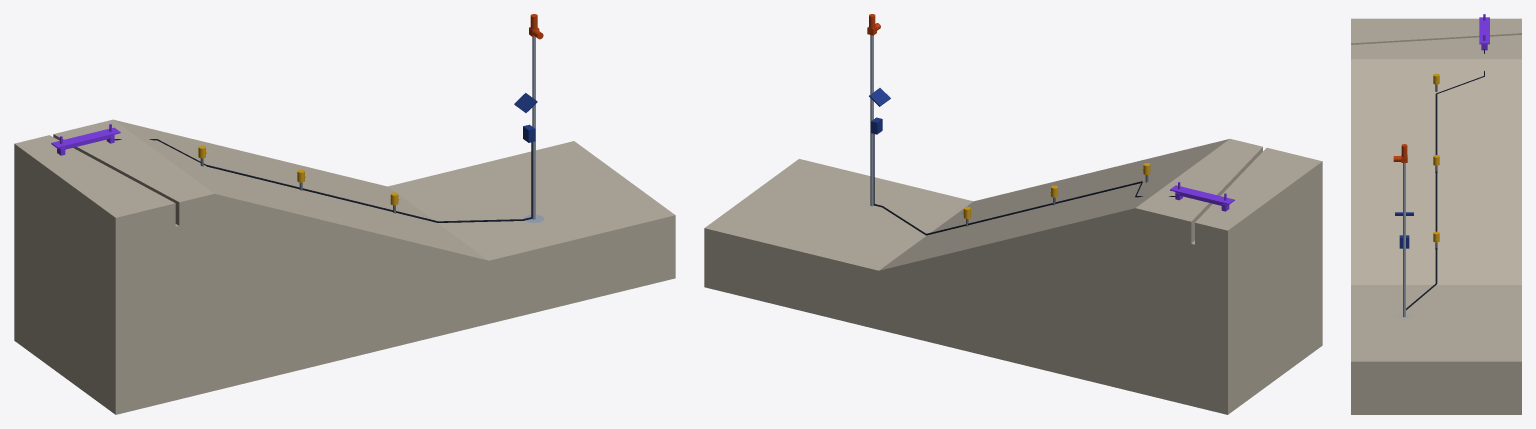
The picture shows the model from 3 angles, left to right: view 1: azimuth 30°, elevation 25°; view 2: azimuth 150°, elevation 25°; view 3: azimuth 270°, elevation 25°; orthographic projection. The views are drawn at different scales.
Parts seen in each view (by area): view 1: Ground: 25 degree slope with tension crack (site), Sensor bus cable in conduit, Crack displacement gauge, Mast and footing; view 2: Ground: 25 degree slope with tension crack (site), Sensor bus cable in conduit, Crack displacement gauge, Mast and footing; view 3: Ground: 25 degree slope with tension crack (site), Sensor bus cable in conduit, Mast and footing, Crack displacement gauge, Stake heads with cable gland (3), Siren and beacon alert unit, FieldNode core with 6 W panel.
Part boxes in pixels (x1=…): Ground: 25 degree slope with tension crack (site): x1=14, y1=119, x2=675, y2=414; Sensor bus cable in conduit: x1=114, y1=139, x2=532, y2=222; Crack displacement gauge: x1=51, y1=124, x2=120, y2=155; Mast and footing: x1=524, y1=36, x2=544, y2=222; Ground: 25 degree slope with tension crack (site): x1=704, y1=138, x2=1322, y2=414; Sensor bus cable in conduit: x1=873, y1=134, x2=1175, y2=235; Crack displacement gauge: x1=1170, y1=182, x2=1234, y2=211; Mast and footing: x1=867, y1=35, x2=880, y2=209; Ground: 25 degree slope with tension crack (site): x1=1351, y1=18, x2=1521, y2=414; Sensor bus cable in conduit: x1=1406, y1=49, x2=1484, y2=310; Mast and footing: x1=1396, y1=163, x2=1412, y2=317; Crack displacement gauge: x1=1479, y1=14, x2=1489, y2=50; Stake heads with cable gland (3): x1=1433, y1=73, x2=1439, y2=242; Siren and beacon alert unit: x1=1393, y1=144, x2=1407, y2=162; FieldNode core with 6 W panel: x1=1395, y1=212, x2=1413, y2=248.
Bounding box in the file's own units: 10.2 × 4.64 × 3.2.
